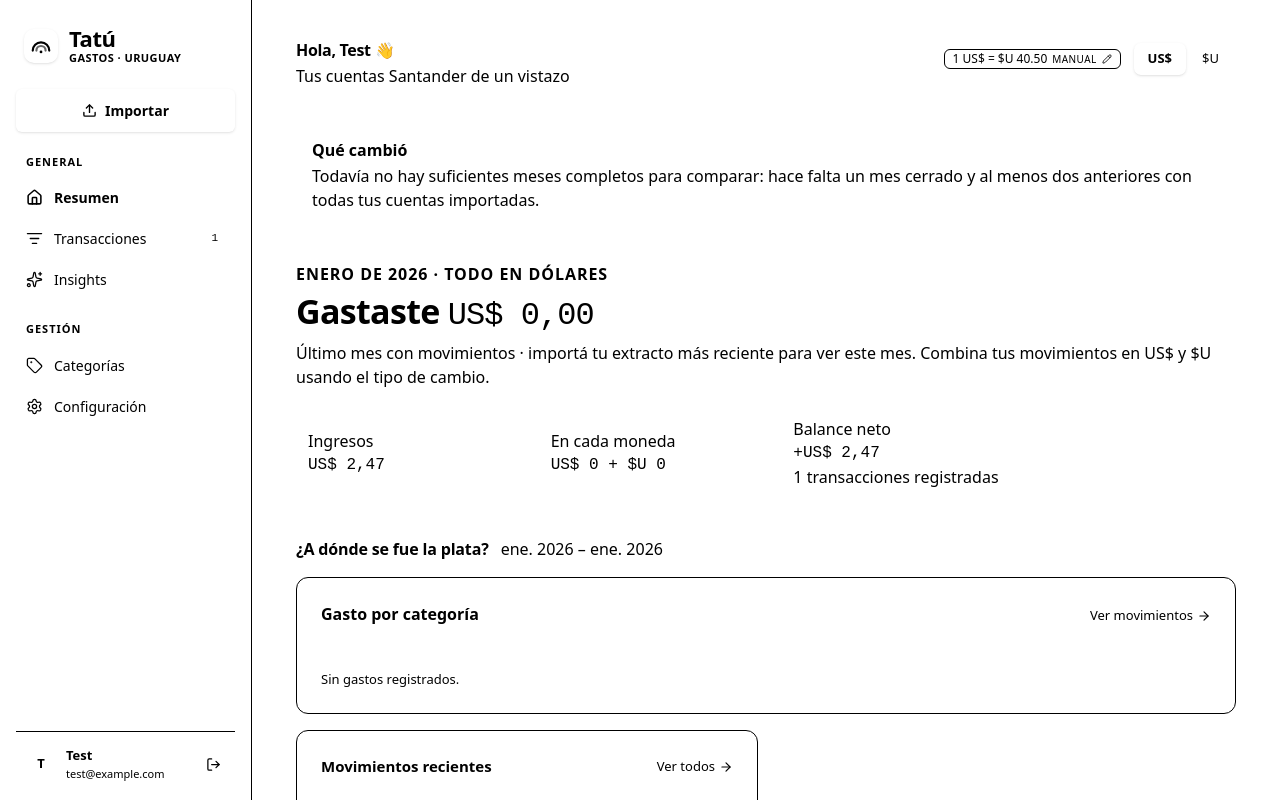
Scenario: App › shows a notice when auto-categorization finds no category matches
Click the button "Transacciones 1" at [126, 239], box [16,219,235,258]
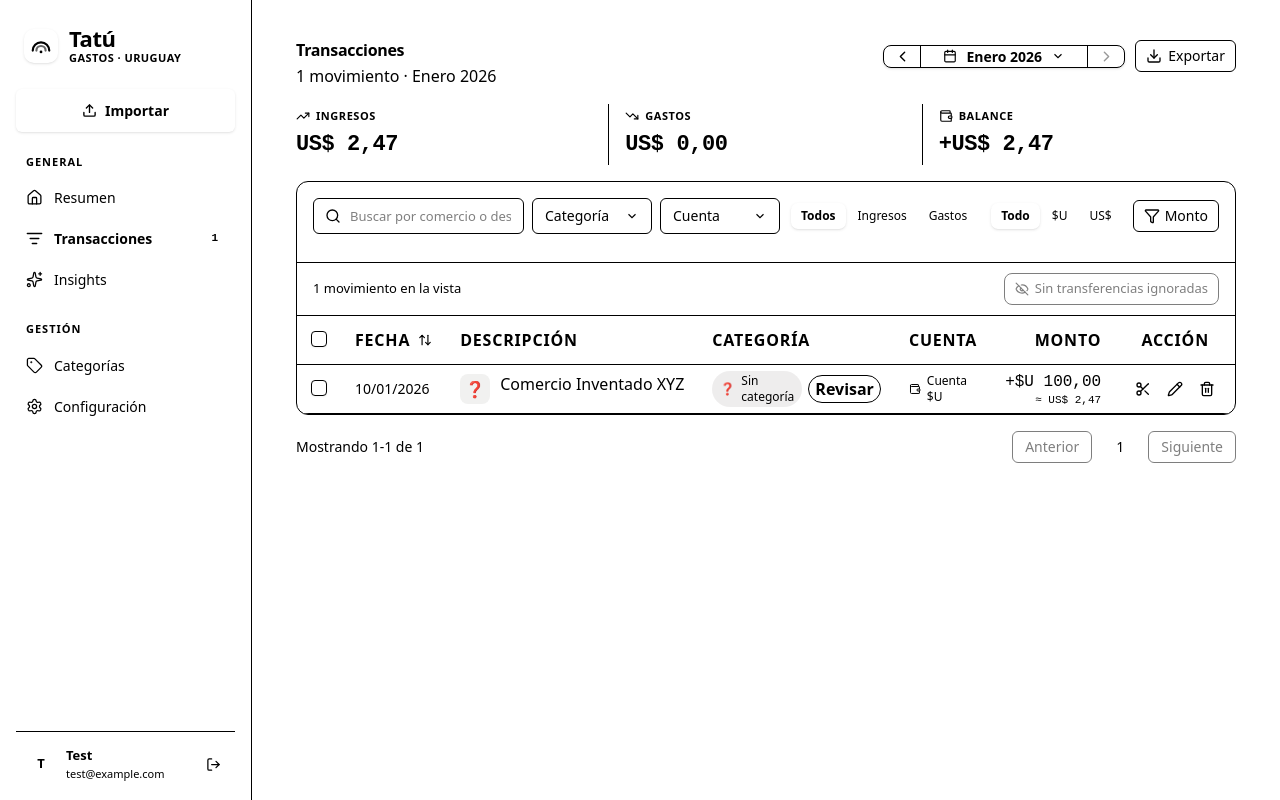
Click the checkbox named "Seleccionar Comercio Inventado XYZ" at [319, 388], box [311,380,327,396]
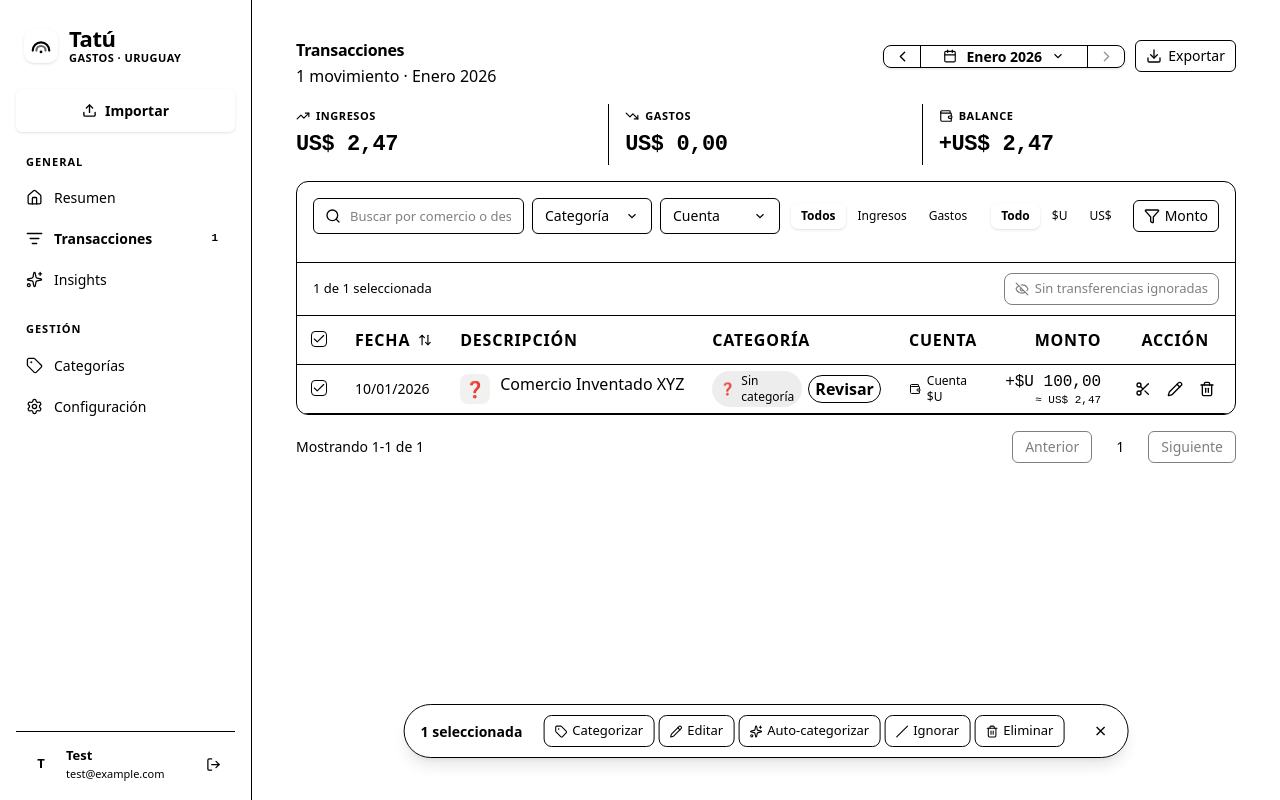
Expected: the button "Auto-categorizar" is enabled
Click the button "Auto-categorizar" at [809, 731], box [738,715,880,747]
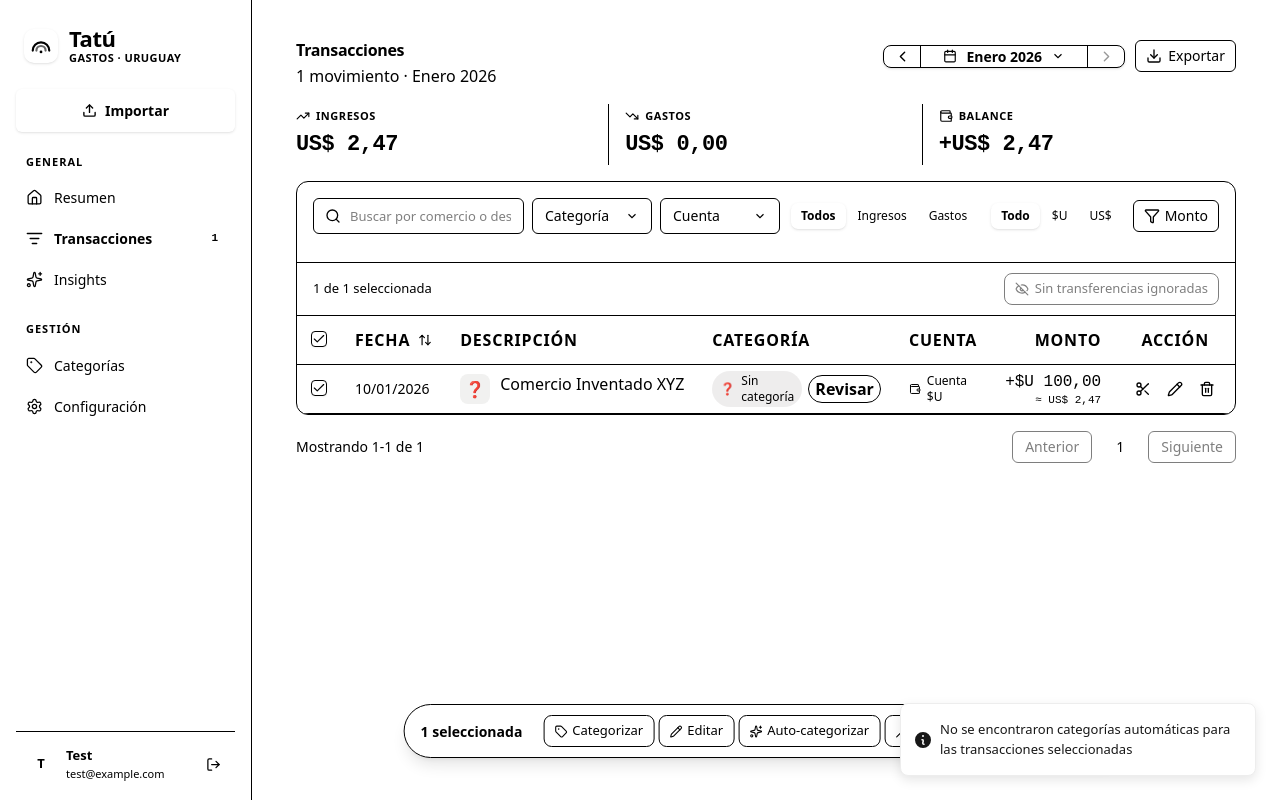
Expected: the text "No se encontraron categorías automáticas para las transacciones seleccionadas" is shown, [940,720,1239,759]
